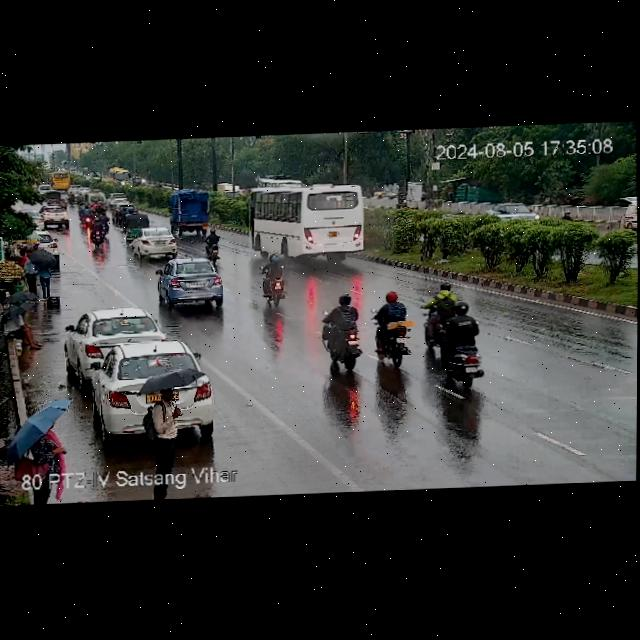bus: (245, 182, 365, 265), (167, 189, 210, 236), (48, 169, 72, 191), (108, 167, 130, 185)
car: (78, 333, 214, 440), (68, 304, 168, 363), (159, 252, 228, 305), (129, 227, 178, 260), (487, 202, 538, 223), (124, 212, 152, 238), (43, 205, 69, 228), (85, 193, 108, 211), (112, 204, 138, 215), (106, 192, 129, 204), (45, 189, 60, 203), (38, 185, 51, 193), (78, 185, 90, 193), (69, 184, 82, 191)
motorcycle: (317, 290, 359, 369), (370, 291, 413, 356), (448, 303, 480, 387), (423, 281, 458, 344), (261, 250, 286, 306), (88, 218, 105, 248), (202, 231, 219, 257), (424, 199, 437, 212), (98, 210, 107, 227), (81, 204, 89, 222), (78, 202, 84, 221), (77, 192, 84, 206), (89, 210, 96, 222), (95, 204, 103, 213), (92, 199, 99, 208), (70, 193, 75, 204), (81, 201, 85, 211)
person: (140, 388, 184, 476), (370, 291, 413, 356), (0, 287, 40, 352), (0, 287, 44, 344), (30, 424, 58, 504), (21, 249, 59, 299)
